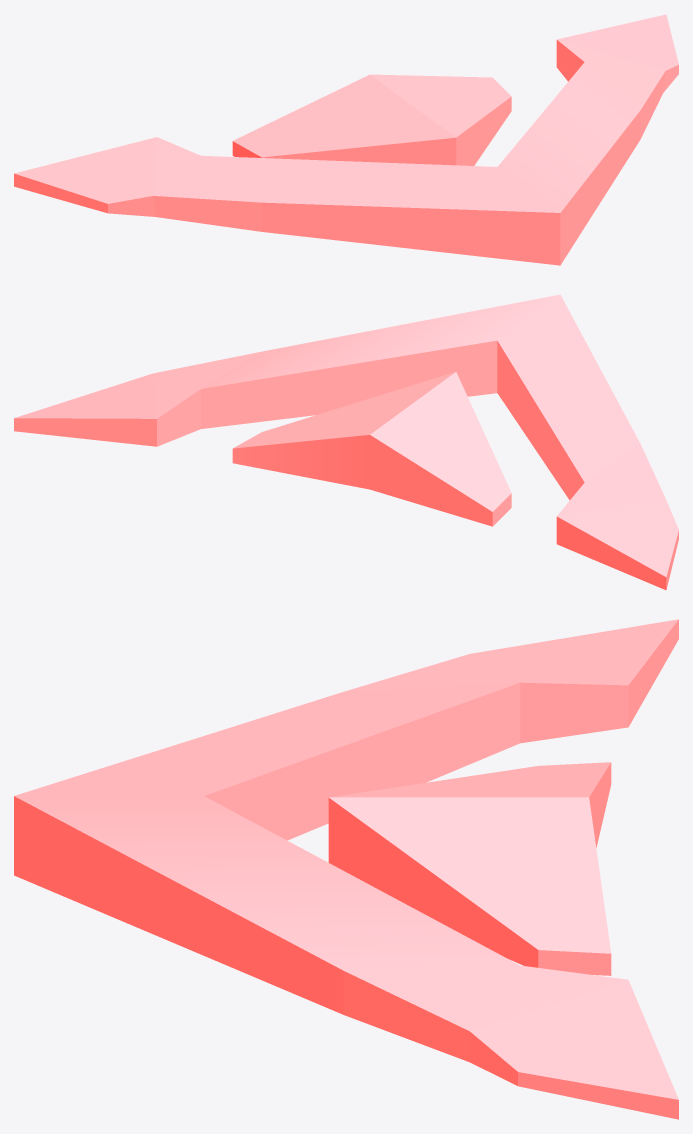
The model's file is arrow2.fbx.
The picture shows the model from 3 angles, top to bottom: view 1: azimuth 30°, elevation 25°; view 2: azimuth 150°, elevation 25°; view 3: azimuth 270°, elevation 25°; orthographic projection. The views are drawn at different scales.
Visible parts, largest first — view 1: Cube.007; view 2: Cube.007; view 3: Cube.007.
Boxes of the visible parts, x1,y1,x2,y2 form: Cube.007: (14,14,678,265); Cube.007: (14,294,678,590); Cube.007: (14,619,678,1119).
Size of the model in its own units: 245 by 21.06 by 143.
